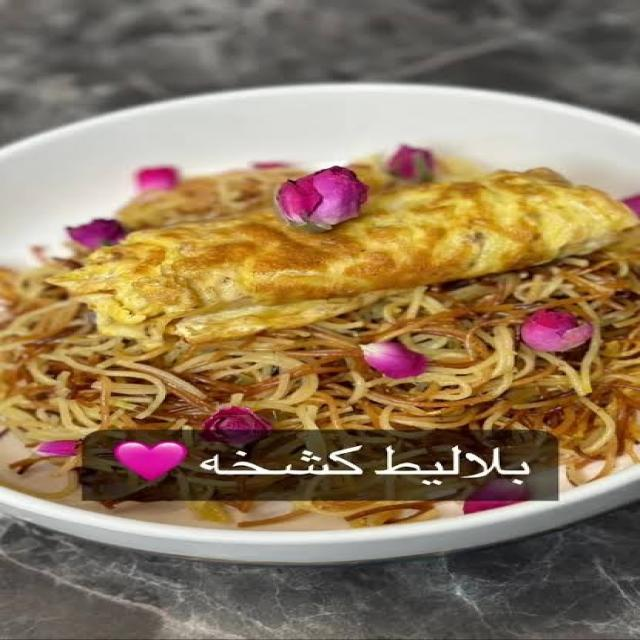Balaleet: (0, 158, 640, 442)
